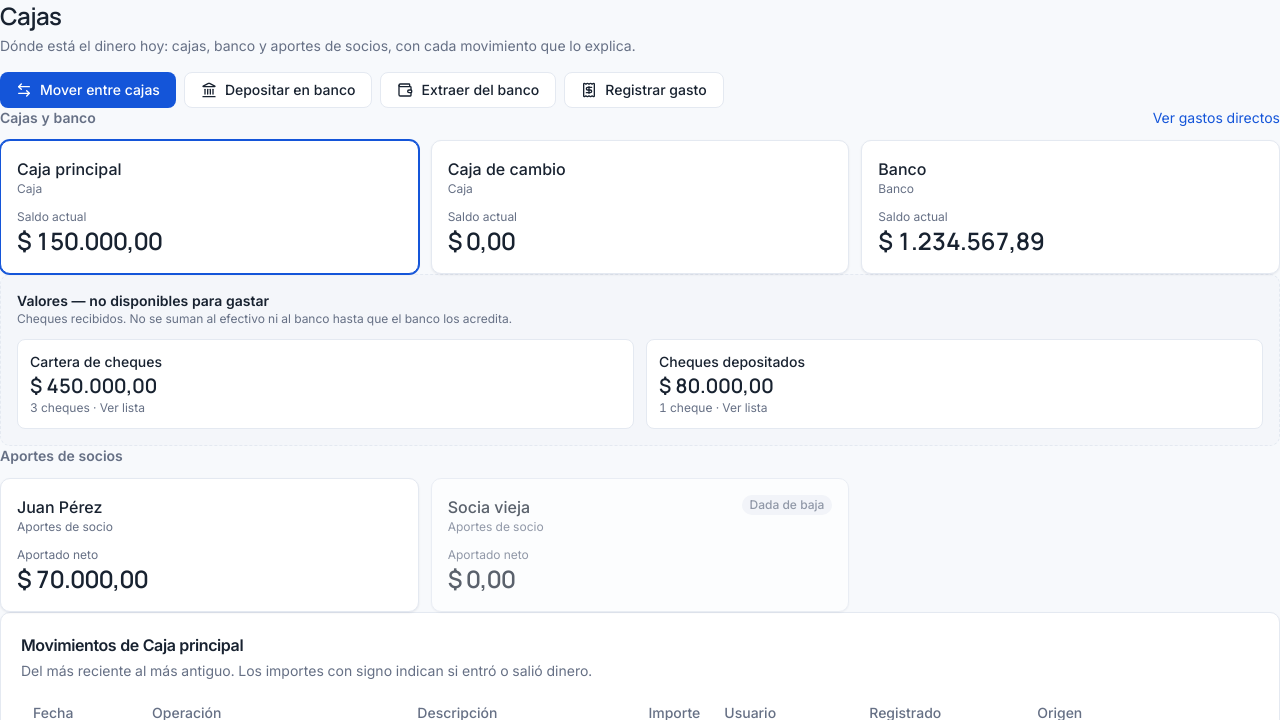
Test: CashBoard › validates the form before sending
Click the button "Mover entre cajas": coordinates (88, 90) [0,72,176,108]
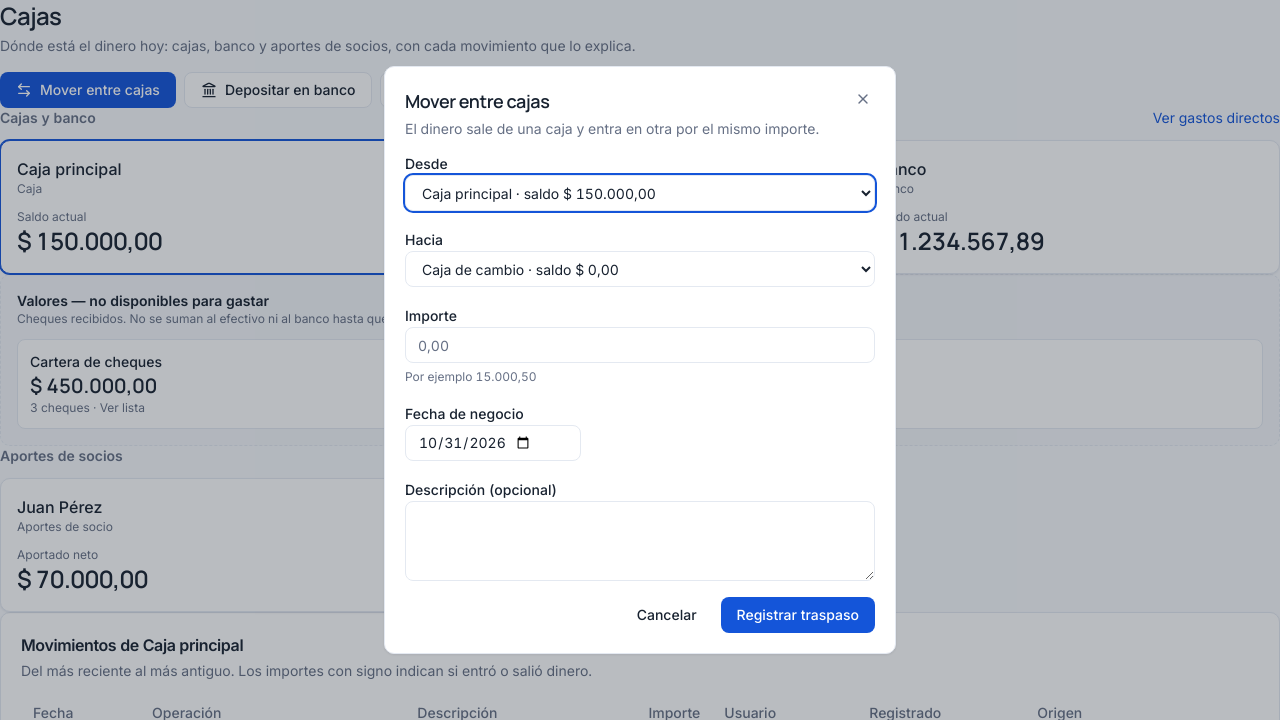
In the field labelled "Importe": coordinates (640, 345) [405,327,875,363], type "1,555"
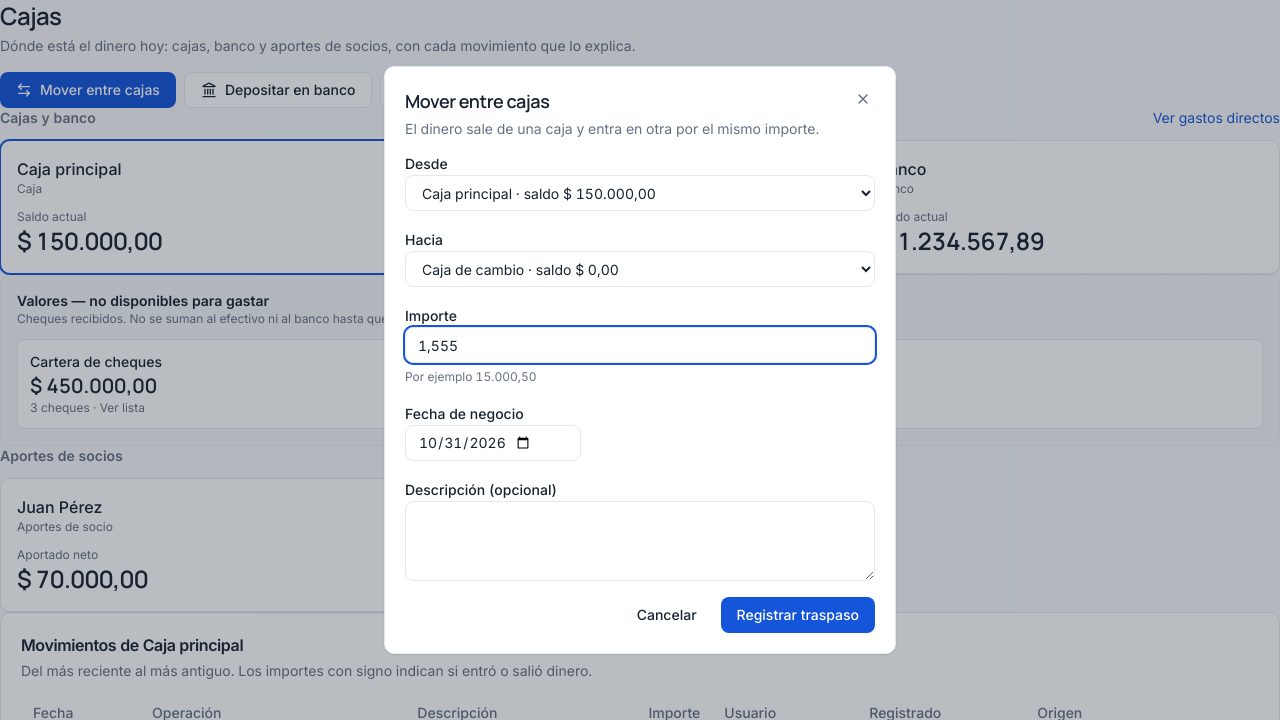
Click the button "Registrar traspaso": coordinates (798, 615) [721,597,875,633]
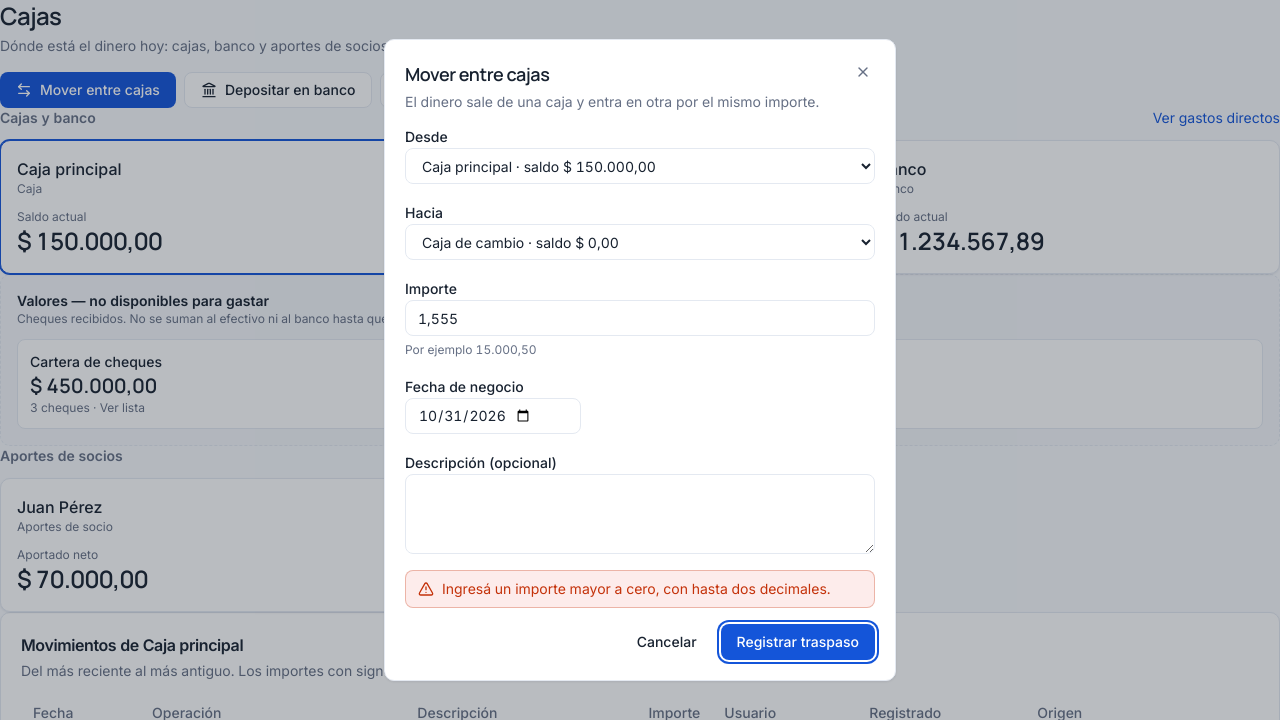
Expected: the message shows "Ingresá un importe mayor a cero", [442,580,831,597]
Select "Caja principal · saldo $ 150.000,00" in the dropdown labelled "Hacia": coordinates (640, 242) [405,224,875,260]
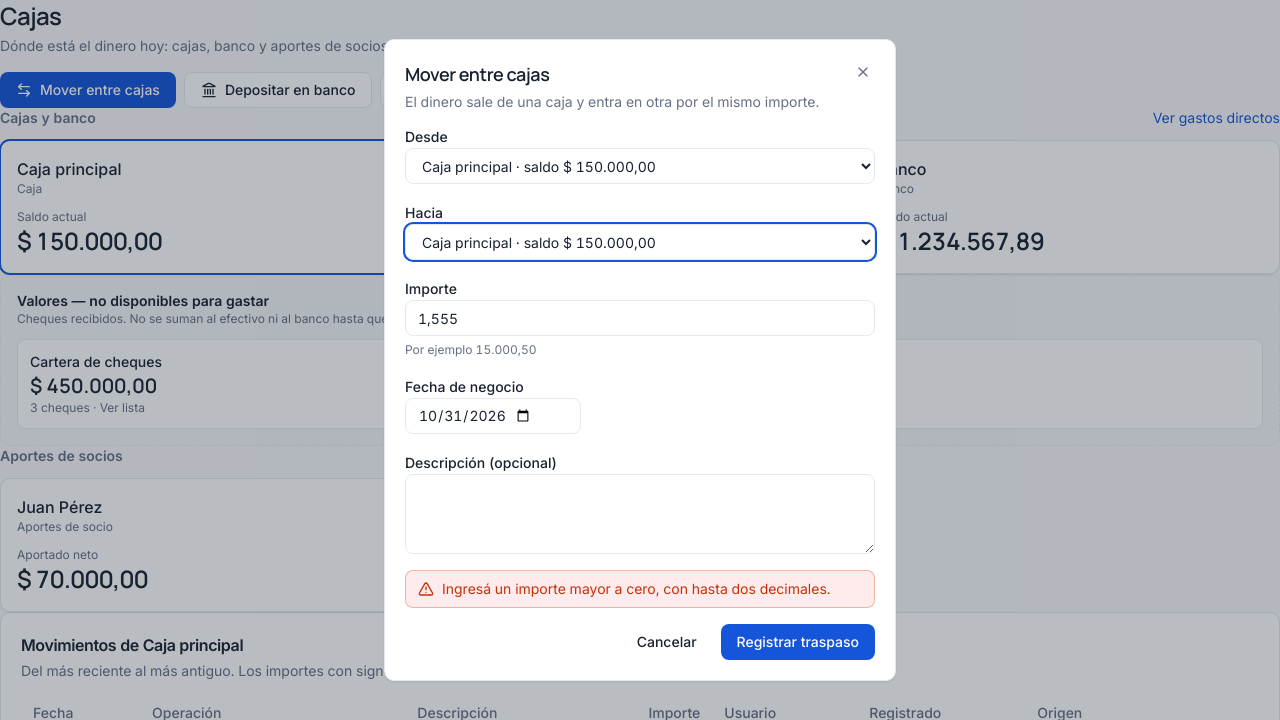
Click the button "Registrar traspaso": coordinates (798, 642) [721,624,875,660]
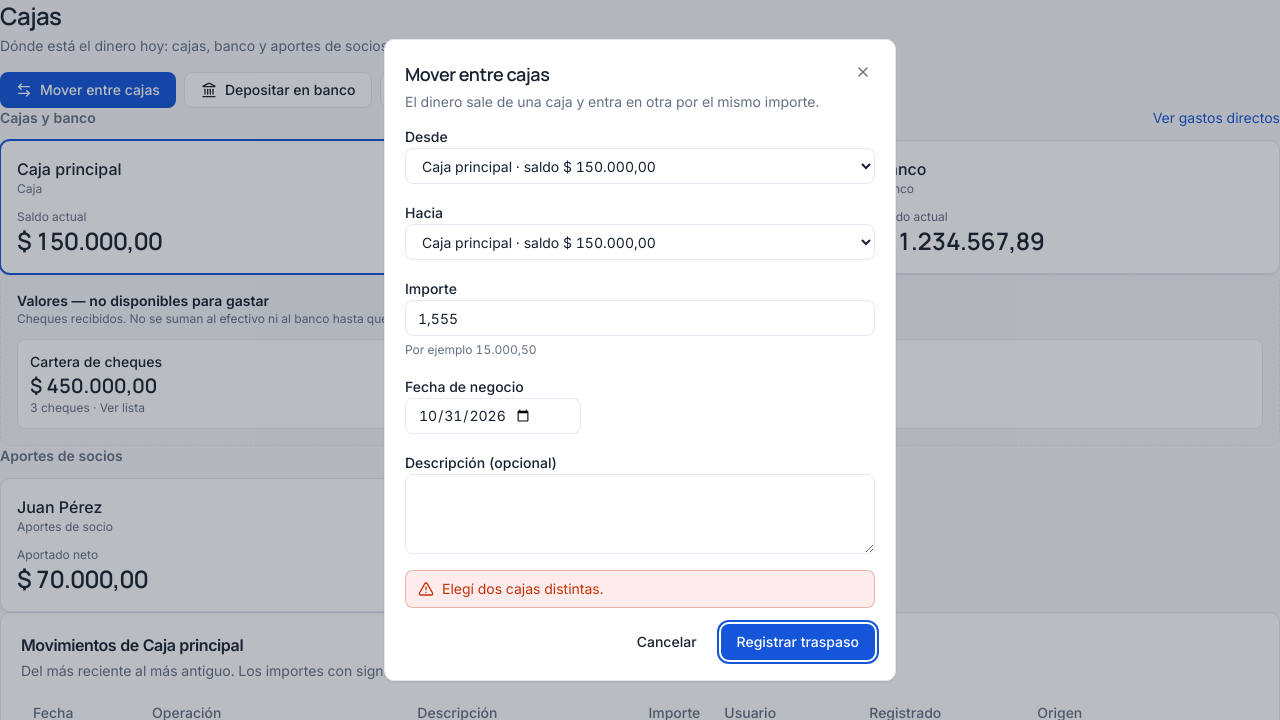
Expected: the message reads "Elegí dos cajas distintas.", [442,580,604,597]
